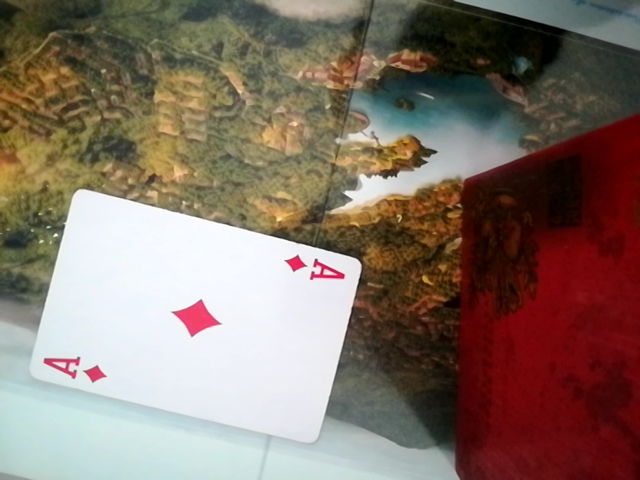fk a: (23, 189, 374, 444)
